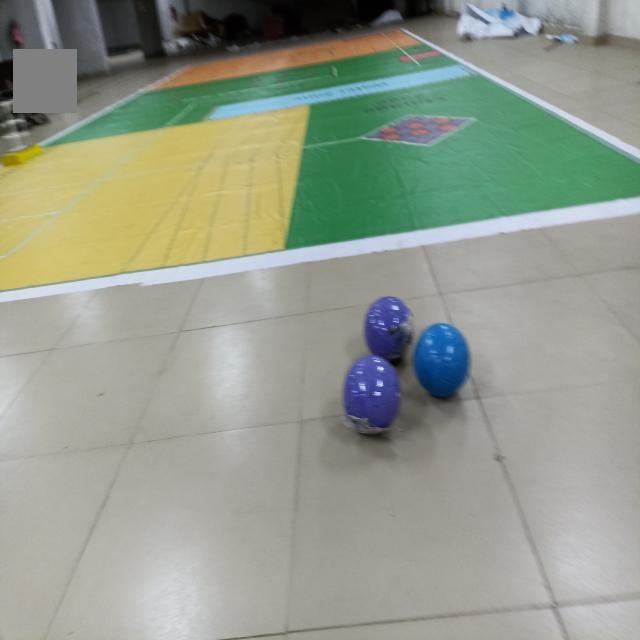blue_ball: (412, 316, 472, 406)
purple_ball: (342, 344, 408, 443), (362, 288, 411, 355)
silo: (0, 91, 42, 168)
